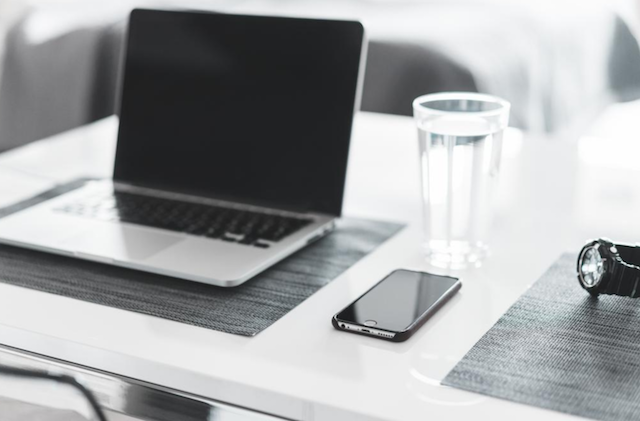computer: (1, 3, 352, 306)
phone: (324, 259, 478, 358)
watch: (566, 219, 640, 307)
